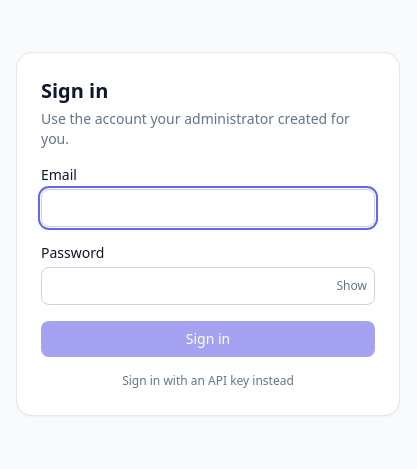
Test case: LoginPage › explains a 'rate_limited' failure in plain language and clears the password
Type "ada@acme.test" into the field labelled "Email" at (208, 208), box [41,189,375,227]
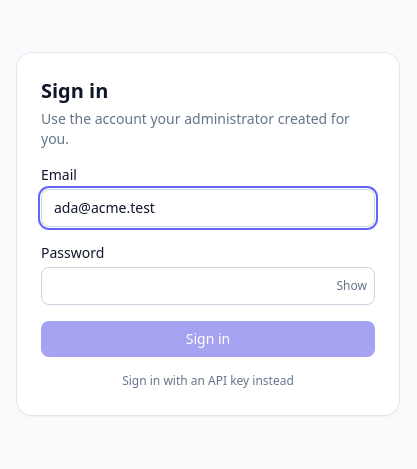
Type "correct-horse-1" into the password field labelled "Password" at (208, 286), box [41,267,375,305]
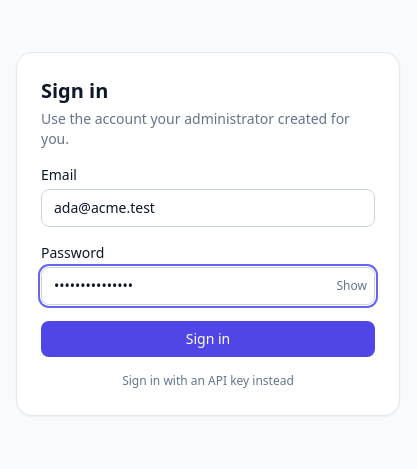
Click the button "Sign in" at (208, 339), box [41,321,375,357]
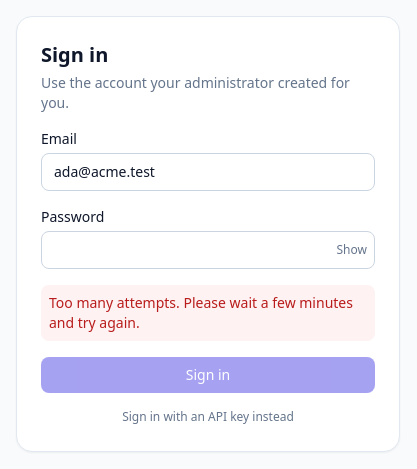
Now the message shows "Too many attempts", box [49,293,353,332]
Now the password field labelled "Password" is empty, box [41,231,375,269]
